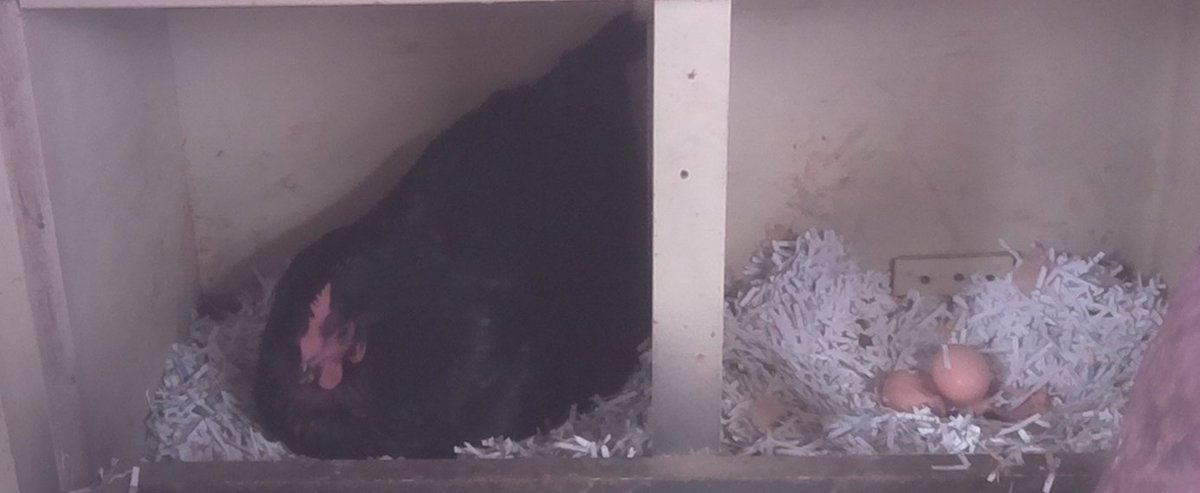egg: (878, 362, 953, 424), (932, 338, 996, 405)
hen: (255, 18, 653, 450), (1091, 236, 1200, 492)
